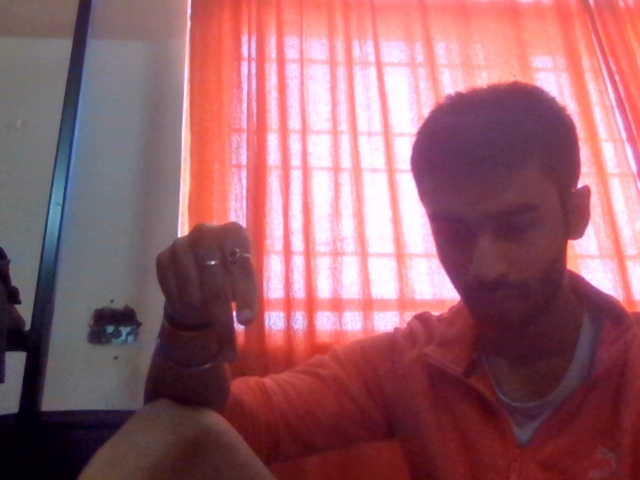P: (129, 185, 310, 398)
